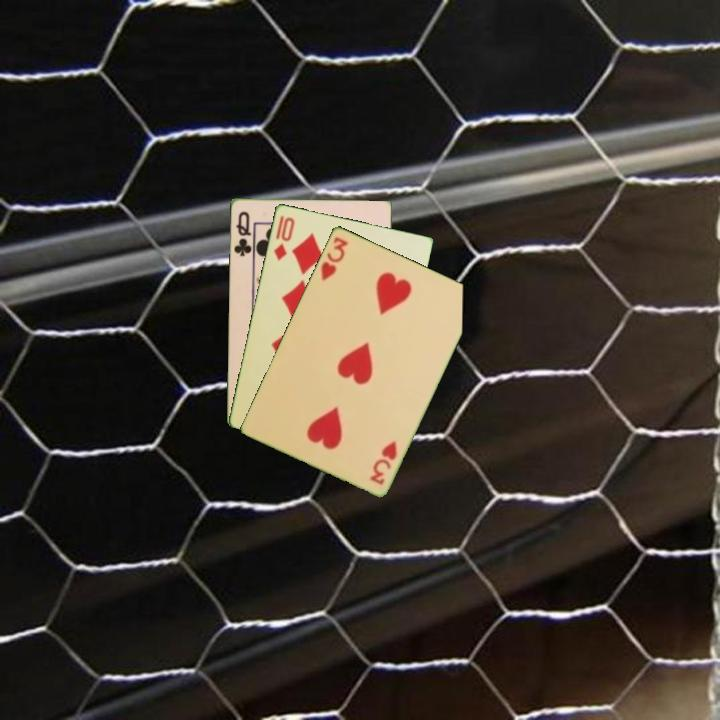10d: (270, 213, 297, 263)
3h: (317, 233, 351, 283), (366, 437, 400, 487)
Qc: (230, 208, 254, 259)
